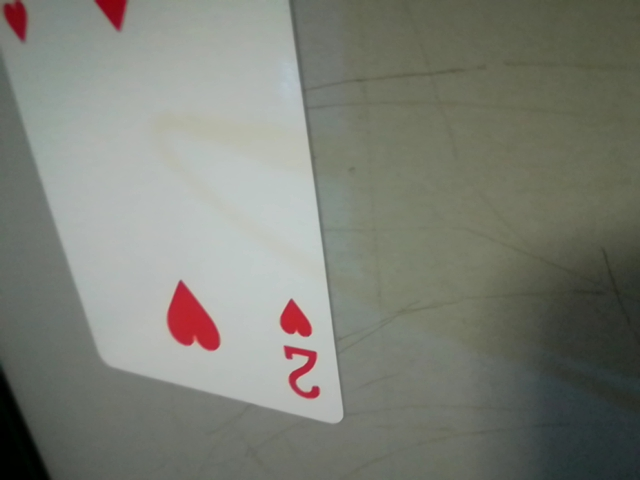hx 2: (267, 289, 335, 410)
